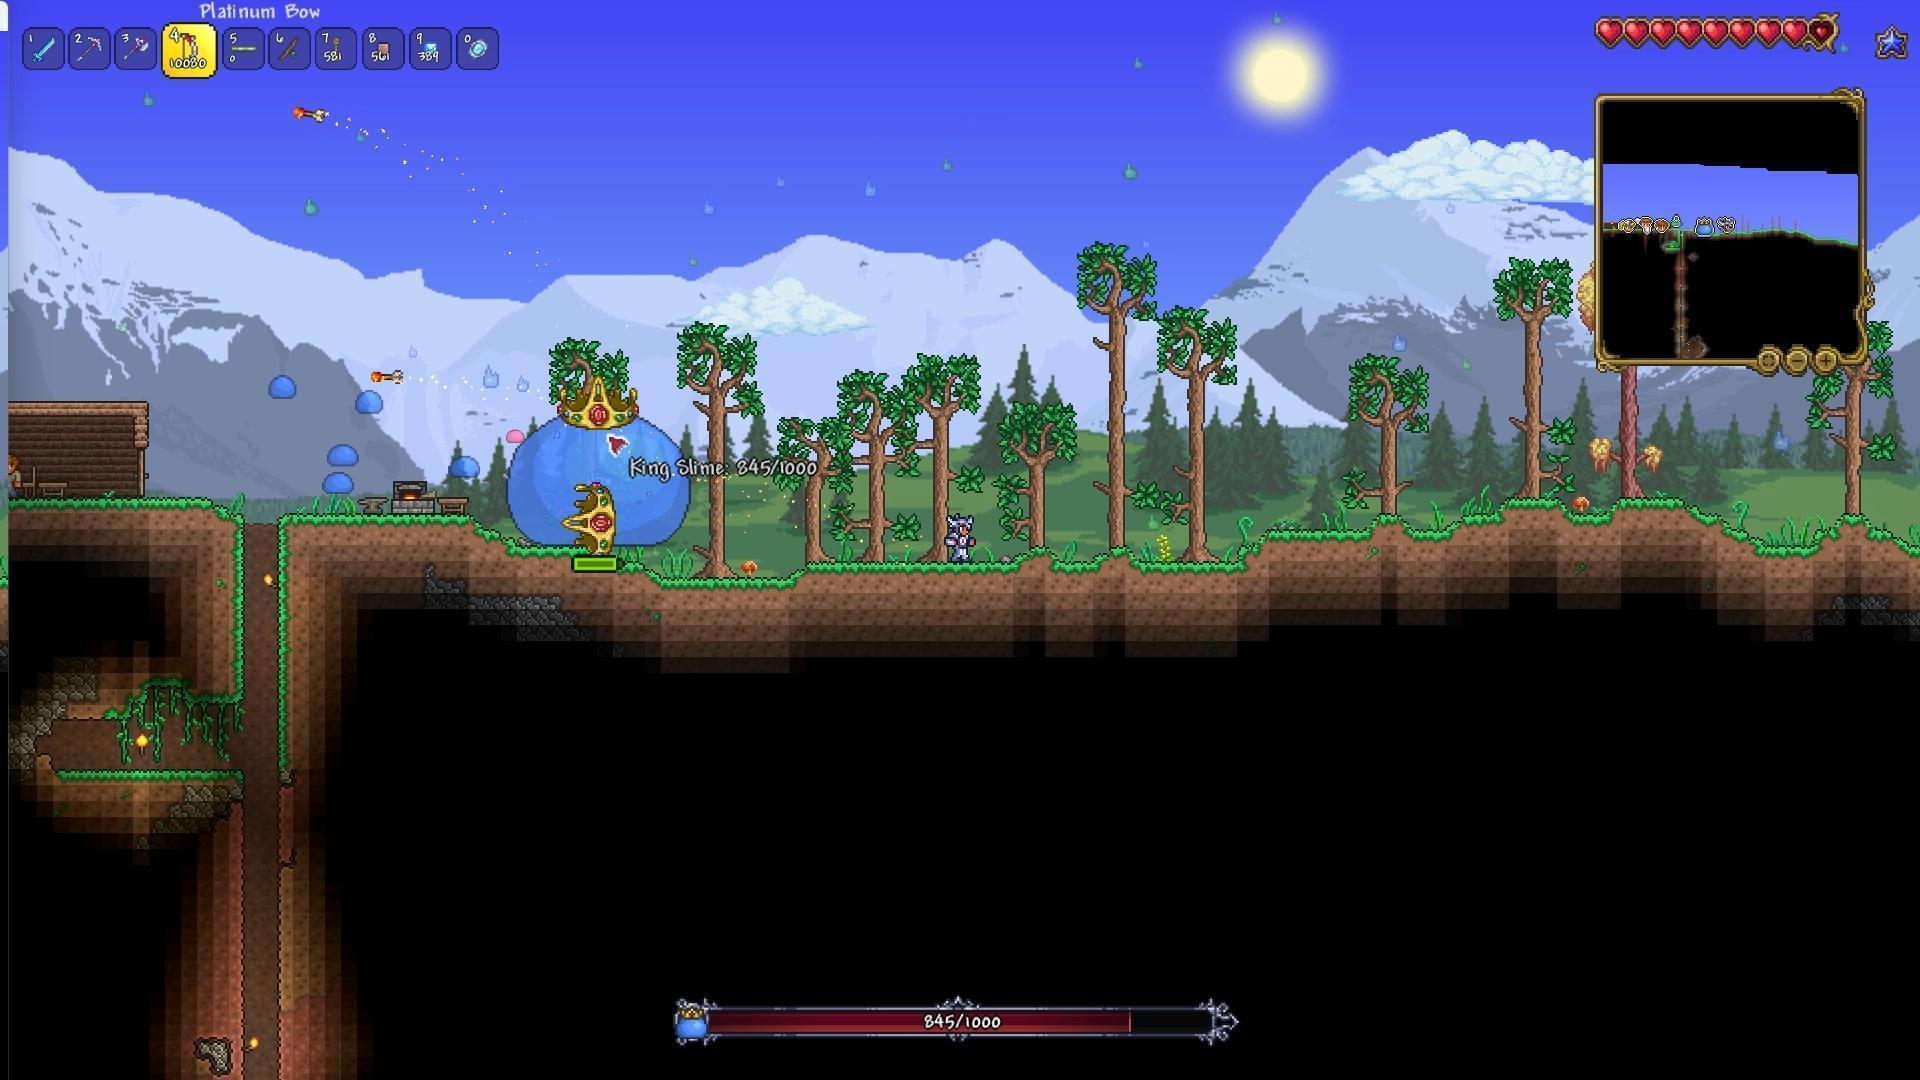slime: (266, 367, 301, 404), (443, 451, 487, 480), (316, 468, 359, 497), (326, 440, 365, 471), (351, 385, 385, 415), (504, 425, 524, 444)
workbench: (436, 493, 471, 516)
